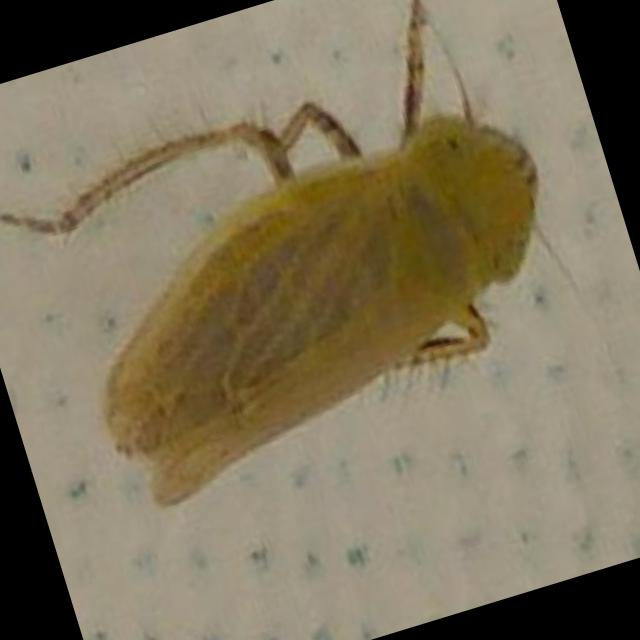green-leafhopper: (0, 0, 595, 503)
